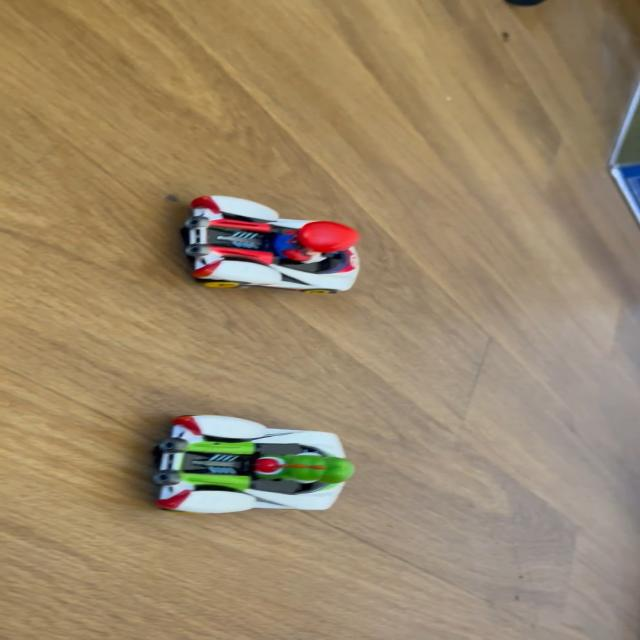mario: (165, 190, 387, 303)
yoshi: (138, 403, 376, 514)
